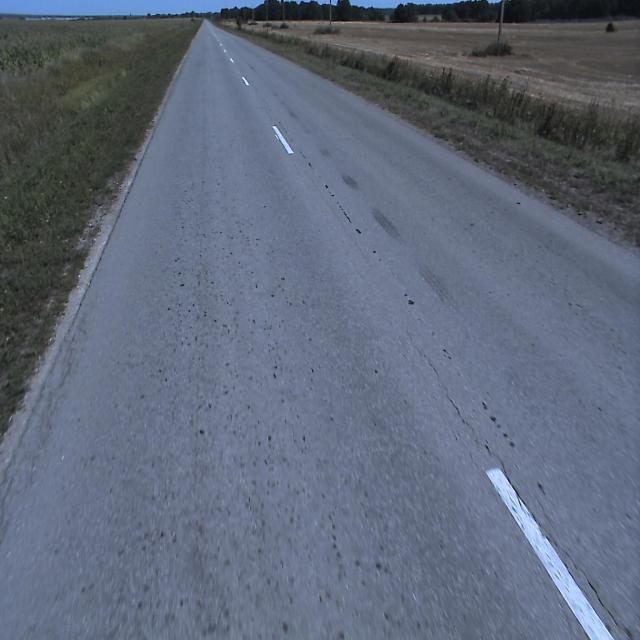road: (0, 19, 640, 639)
